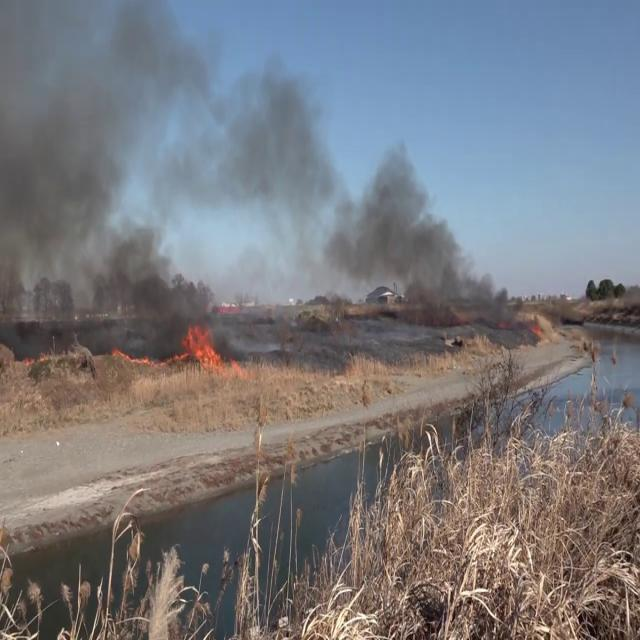Fire: (180, 319, 224, 372)
Smoke: (203, 61, 515, 323), (0, 1, 220, 342)
